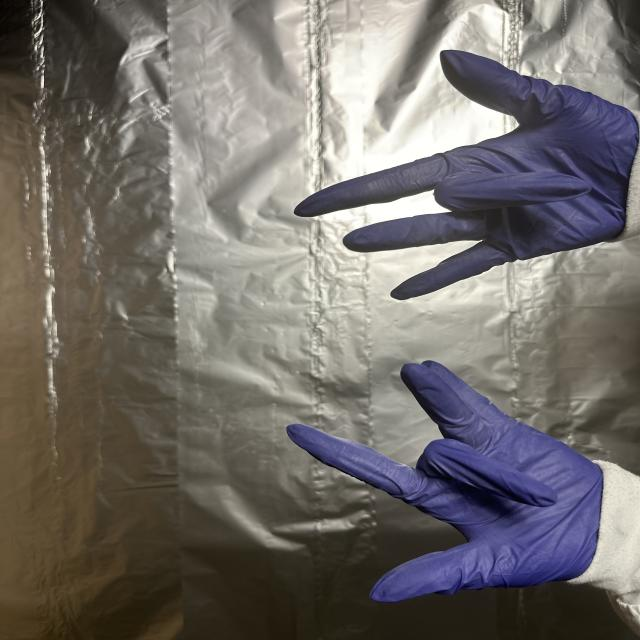gloves_contaminated: (294, 50, 638, 300), (287, 361, 603, 602)
